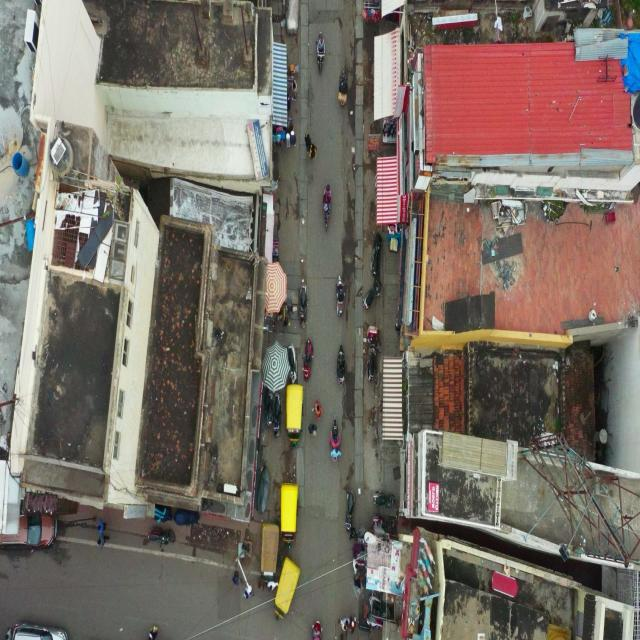Car: (0, 510, 58, 552), (5, 621, 70, 640)
Cycle: (369, 595, 395, 628), (144, 526, 176, 550), (334, 340, 348, 387), (257, 466, 270, 512), (345, 489, 357, 538), (362, 280, 380, 310), (370, 234, 382, 277), (322, 183, 332, 230), (286, 344, 298, 383), (377, 514, 398, 535), (374, 491, 396, 510), (330, 419, 340, 460), (303, 341, 313, 380), (264, 390, 274, 428), (299, 285, 308, 327), (272, 394, 281, 436), (97, 518, 109, 549), (387, 226, 401, 252), (366, 349, 377, 382), (287, 70, 298, 102), (336, 278, 345, 316), (154, 504, 172, 523), (316, 34, 325, 71), (353, 550, 368, 570), (338, 71, 347, 103), (341, 616, 357, 634), (366, 612, 382, 630), (273, 125, 286, 147), (284, 297, 294, 325), (305, 134, 316, 158), (366, 326, 378, 347), (278, 301, 288, 325), (358, 619, 373, 635), (312, 621, 322, 640), (395, 312, 402, 336), (148, 624, 158, 640), (262, 312, 270, 332), (214, 327, 225, 341), (273, 237, 279, 262), (287, 117, 294, 137), (232, 571, 240, 586), (308, 422, 317, 435)
